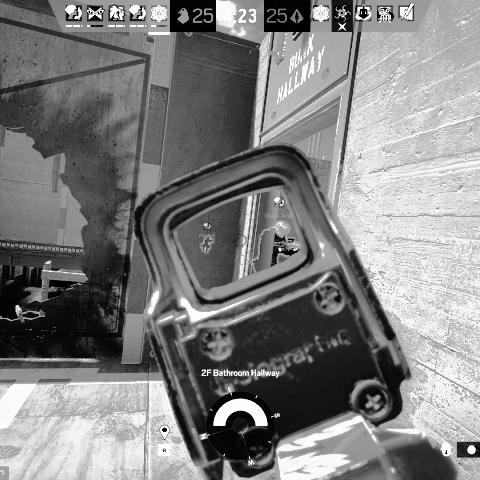Character: (269, 220, 300, 268)
Friend_label: (263, 197, 296, 219), (198, 222, 216, 238)
Head: (274, 221, 291, 239)
